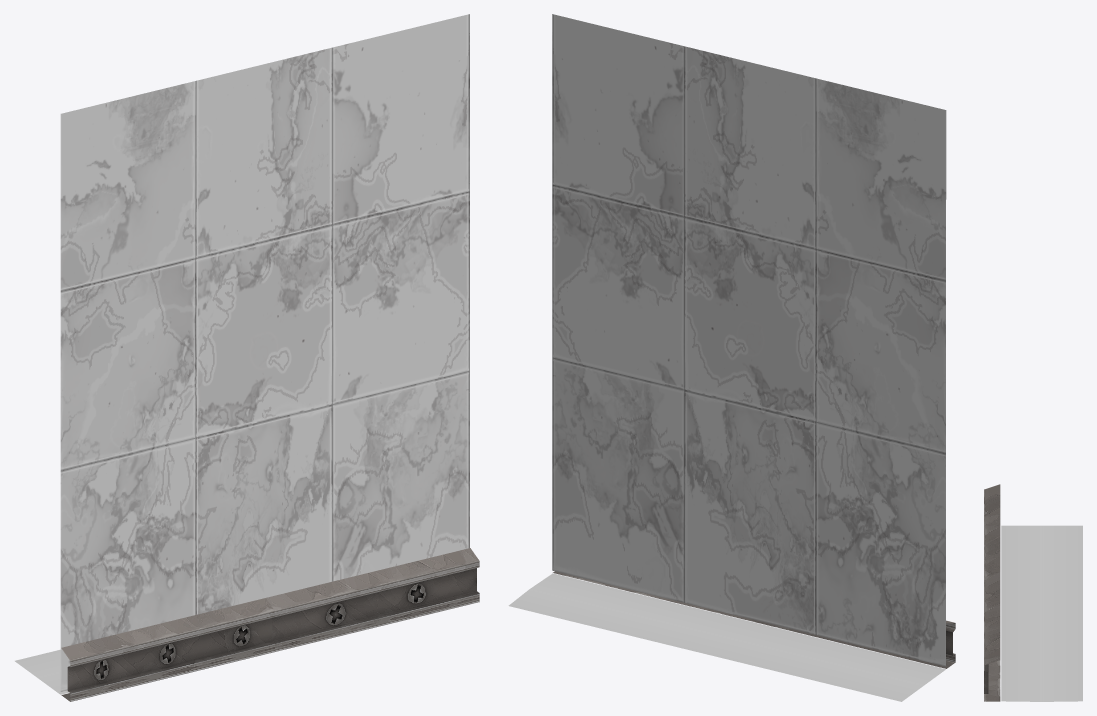
Rendered from Ev_Company_Inner_arch_corner.fbx.
3 renders of one model, left to right at view 1: azimuth 30°, elevation 25°; view 2: azimuth 150°, elevation 25°; view 3: azimuth 270°, elevation 25°, orthographic. The views are drawn at different scales.
Parts seen in each view (by area): view 1: Ev_Company_Inner_arch_corner; view 2: Ev_Company_Inner_arch_corner; view 3: Ev_Company_Inner_arch_corner.
Boxes of the visible parts, left/top/right/bottom form: Ev_Company_Inner_arch_corner: left=15, top=14, right=479, bottom=701; Ev_Company_Inner_arch_corner: left=508, top=14, right=955, bottom=701; Ev_Company_Inner_arch_corner: left=984, top=484, right=1082, bottom=701.
Bounding box in the file's own units: 200 × 47.48 × 271.
